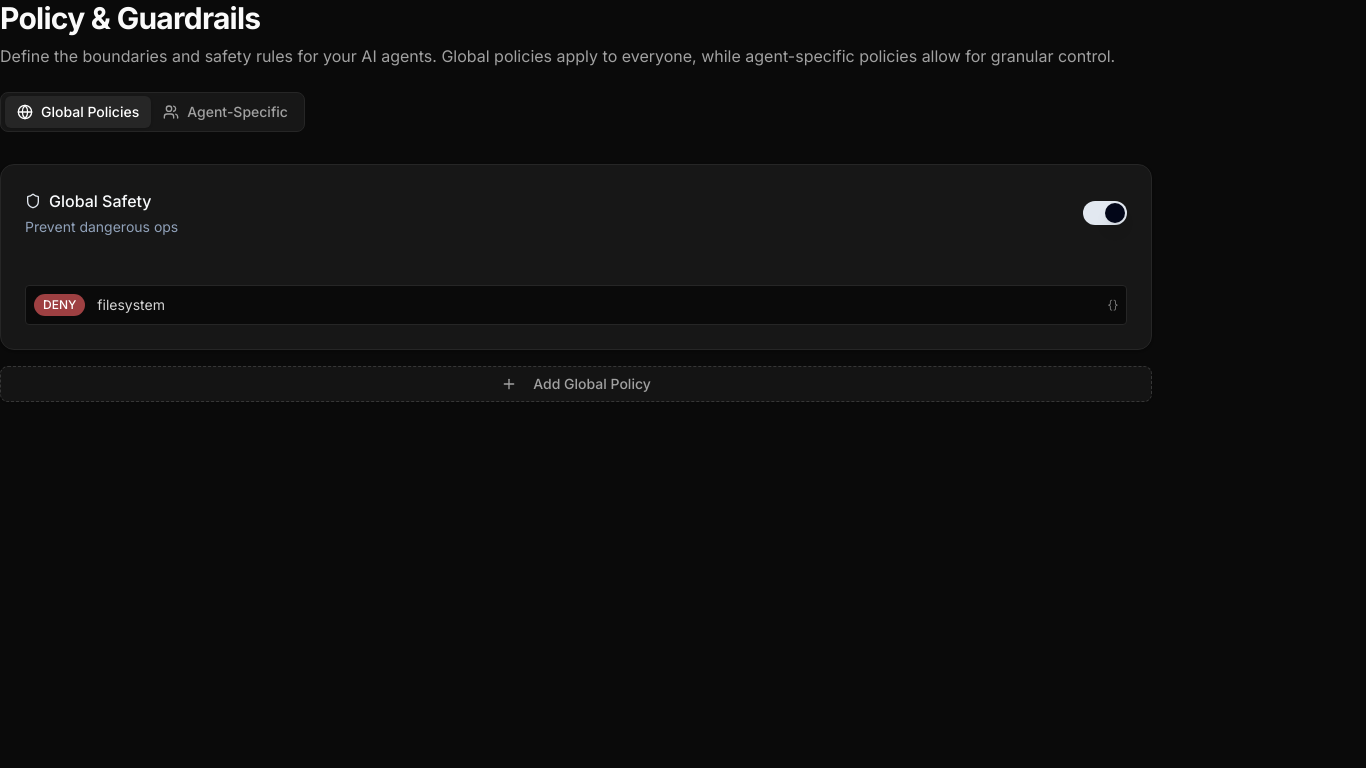
Test: PolicyPage › Interactions › should open Add Agent Policy dialog
Note: Switch to Agent tab
What coordinates should you click on to do the following:
click the tab "Agent-Specific"
I would click on:
 (226, 112)
Its box is [151,96,300,128].
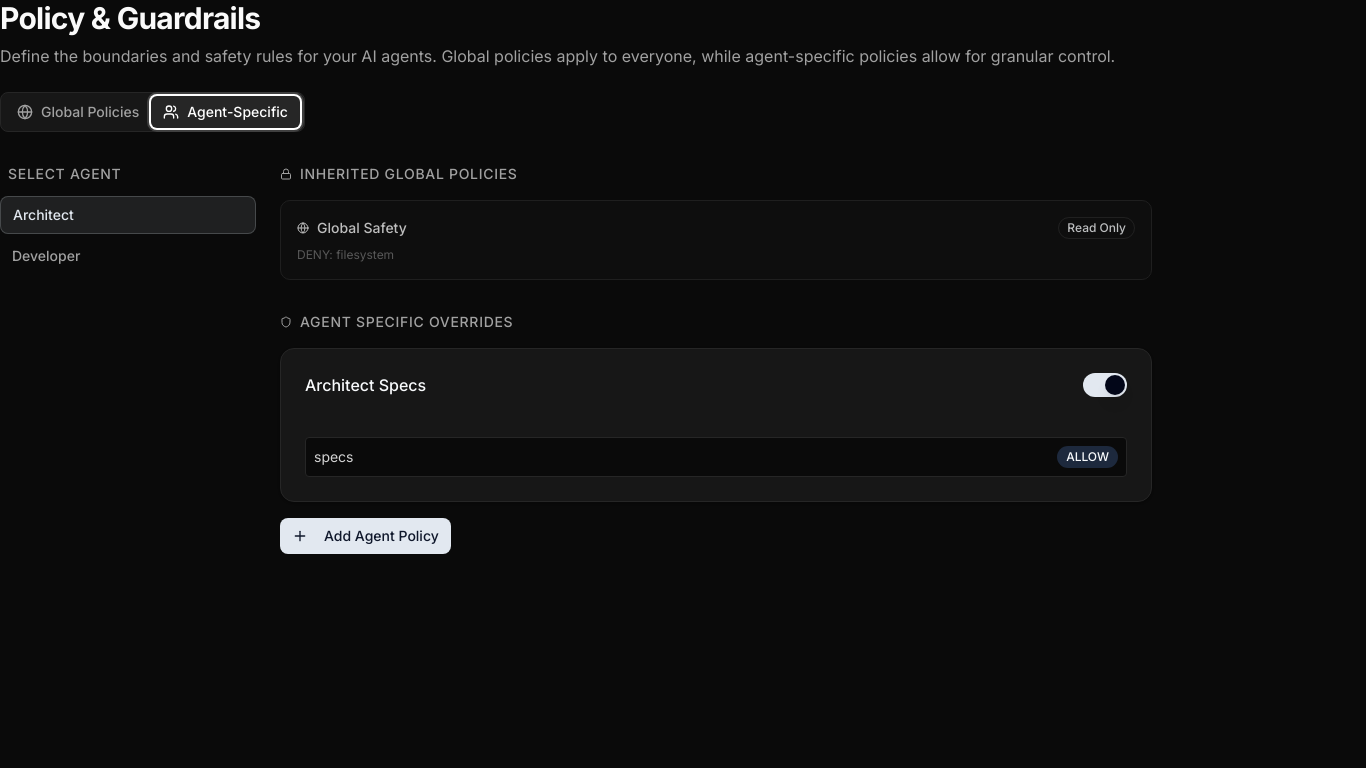
What coordinates should you click on to do the following:
click the button "Add Agent Policy"
I would click on:
 (365, 536)
Its box is [280,518,451,554].
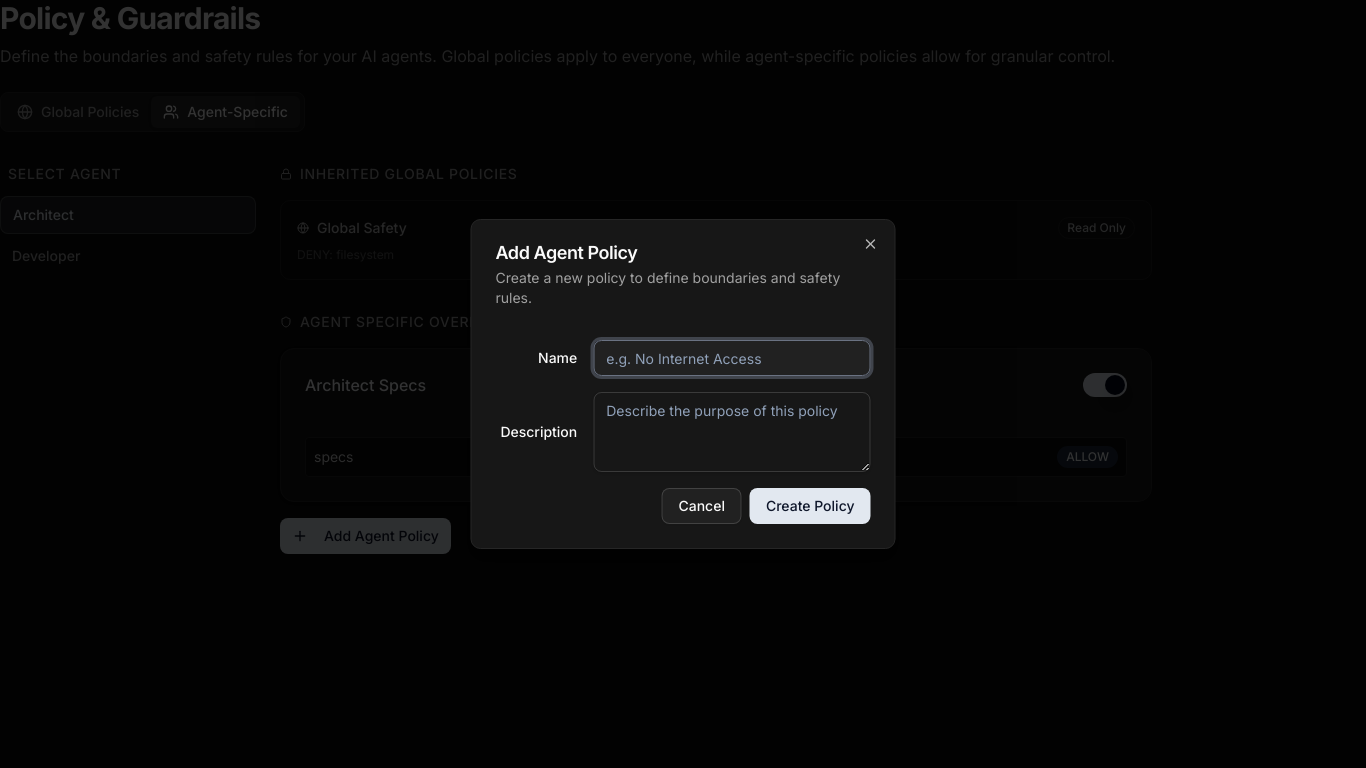
Check: the dialog is shown, box [470,219,896,549]
Check: the heading "Add Agent Policy" is shown, box [496,242,637,263]
